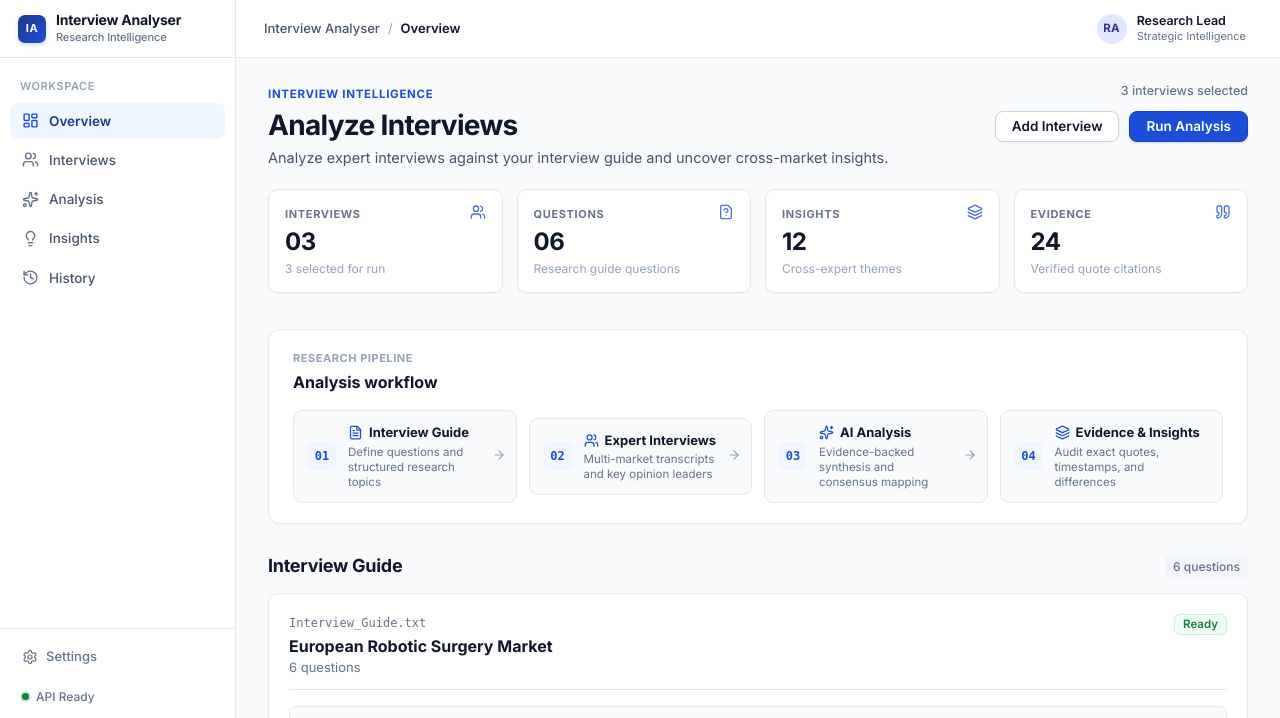
Test: Interview Analyzer › shows a loading state while analysis is running
Click the button "Run Analysis".
click(1189, 127)  # box [1130,111,1248,142]
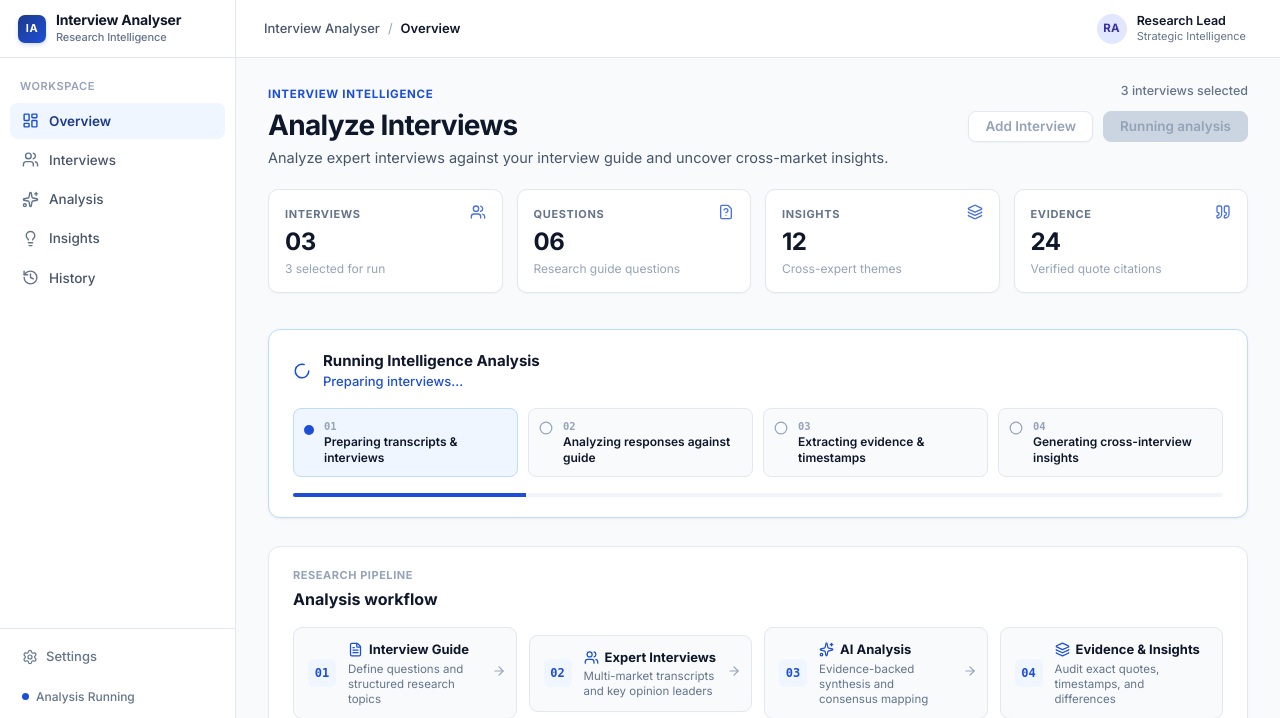
Now the button "Running analysis" is disabled, box [1103,111,1248,142]
Now the message shows "Preparing interviews...", box [323,373,463,389]
Now the text "Analysis Running" is shown, box [36,688,135,706]
